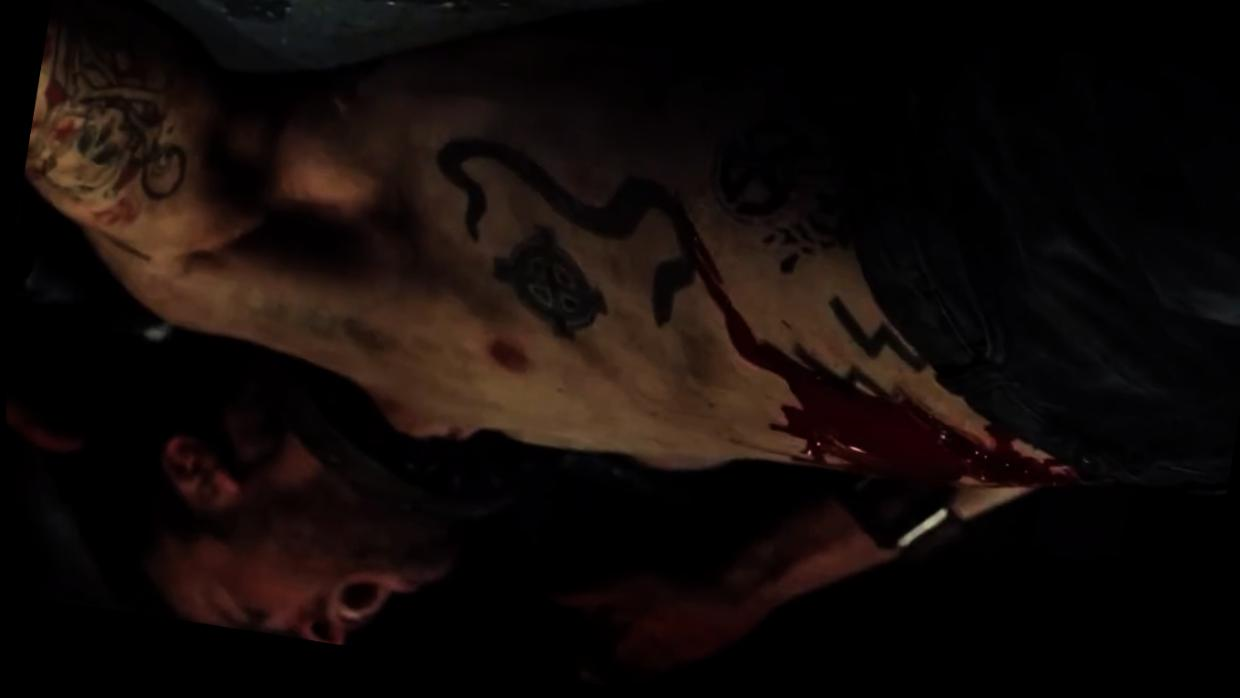Fire: (689, 238, 1076, 493)
